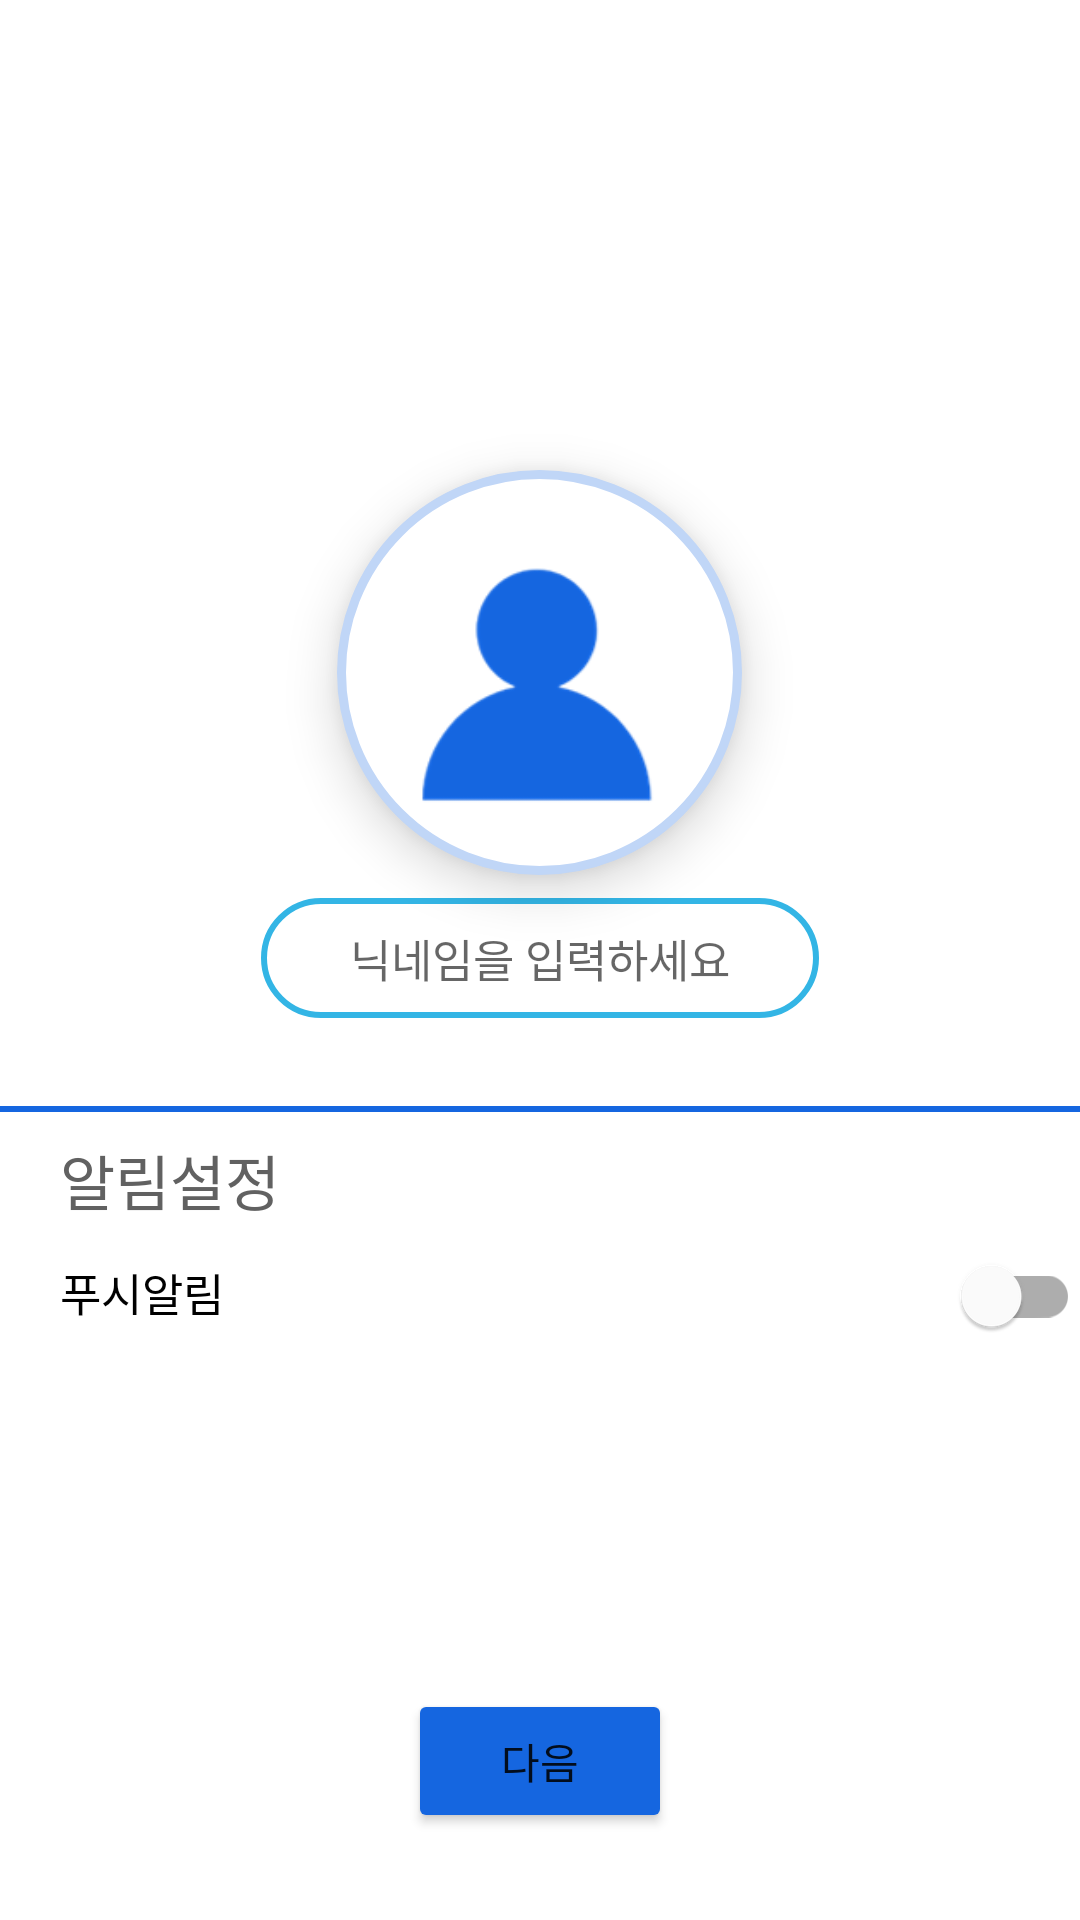

Point at icon controls on the screen. Image size 1080×1920, points as (x,y).
login user: (537,684)
